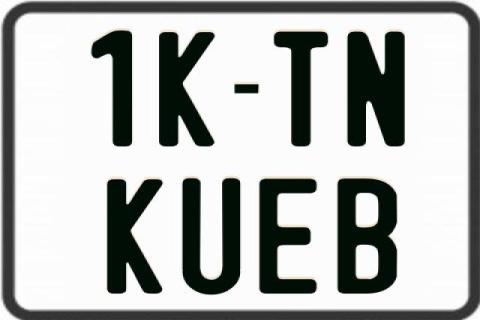0: (92, 30, 134, 148)
B: (338, 177, 398, 295)
E: (259, 177, 320, 296)
K: (106, 179, 167, 297), (156, 32, 217, 147)
N: (344, 29, 403, 149)
T: (273, 29, 329, 149)
U: (181, 178, 240, 298)
